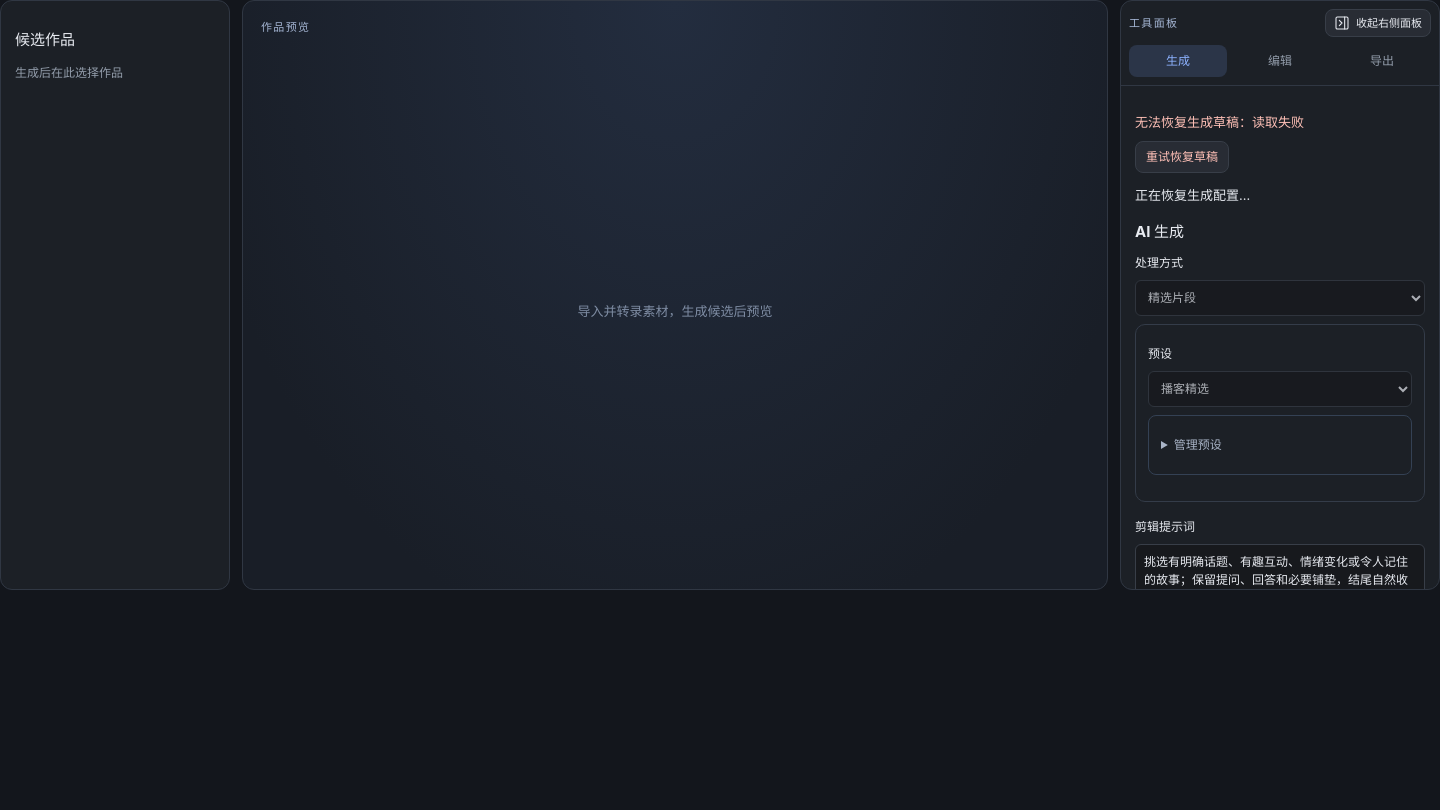
Test: 恢复草稿失败时禁止用默认值覆盖记录，重试后才能生成
The width and height of the screenshot is (1440, 810).
Check: the message "无法恢复生成草稿：读取失败 重试恢复草稿" is shown, box [1135,114,1304,172]
What coordinates should you click on to do the following:
click the button "重试恢复草稿"
I would click on:
 (1182, 156)
Its box is [1135,140,1229,172].
(page scrolled)
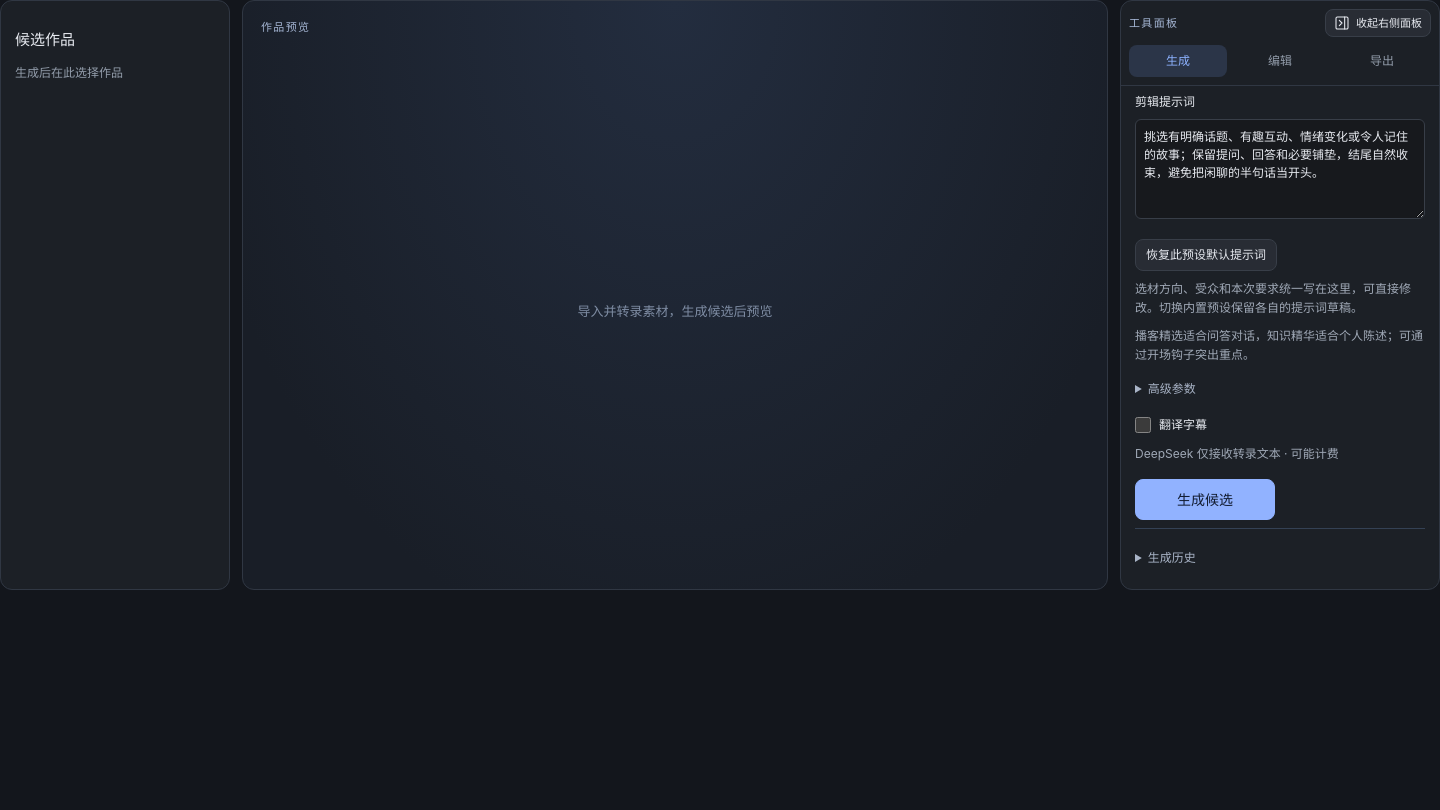
Check: the button "生成候选" is enabled, box [1135,479,1275,520]
